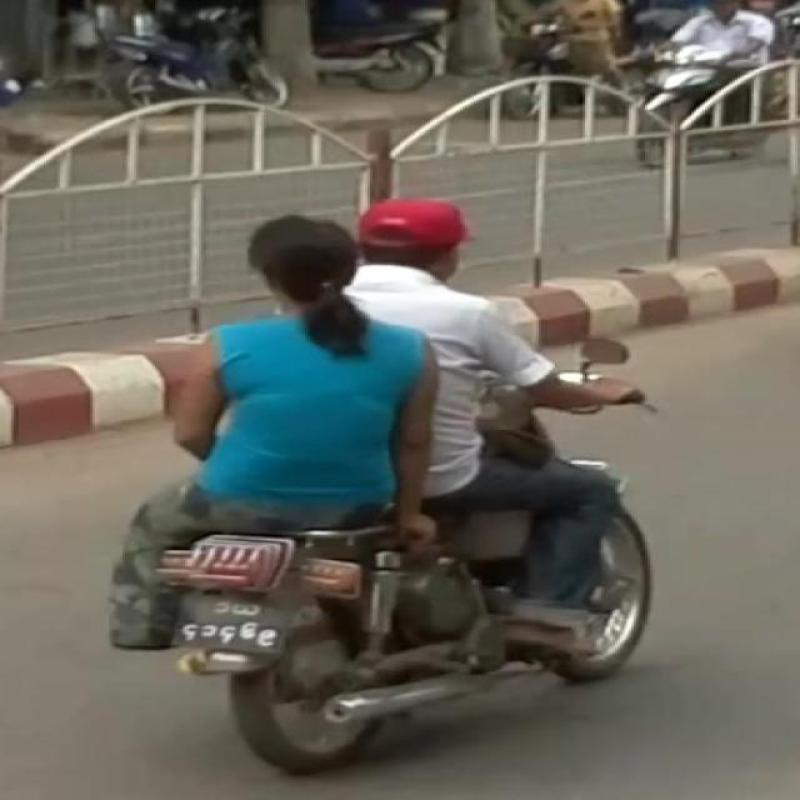nohelmet: (202, 186, 378, 298), (344, 180, 528, 270)
